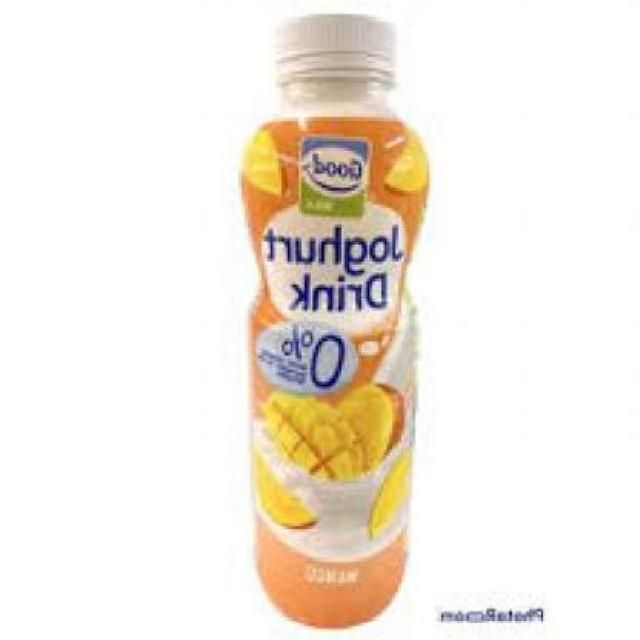PLASTIC: (242, 11, 432, 626), (276, 12, 398, 82)
